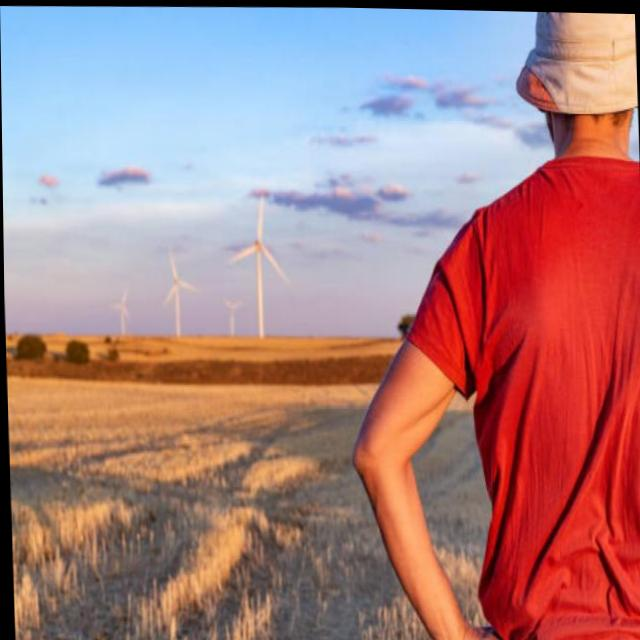no helmet: (478, 8, 639, 159)
